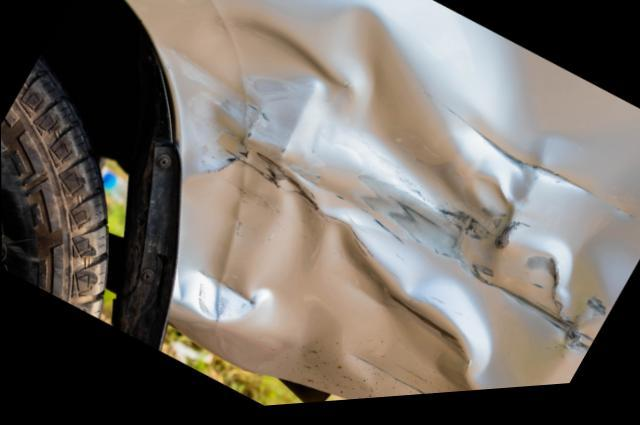dent: (175, 0, 640, 405)
